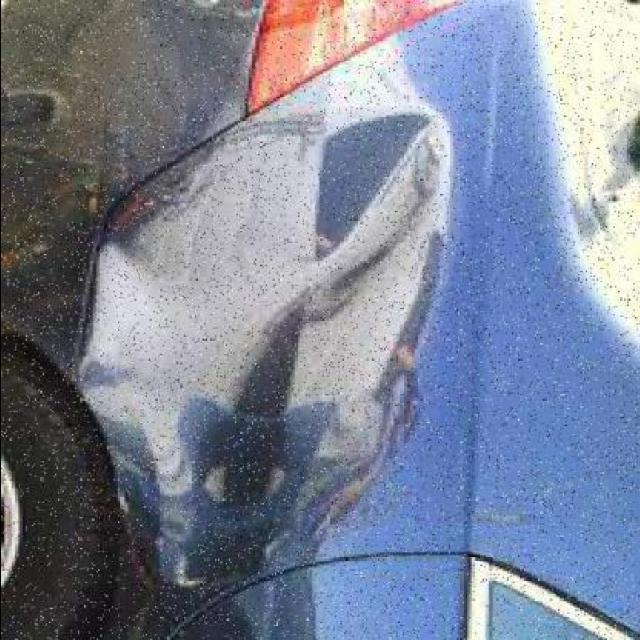quaterpanel-dent: (10, 102, 583, 595)
